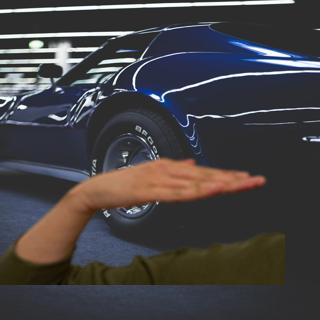WAIT: (69, 151, 271, 215)
